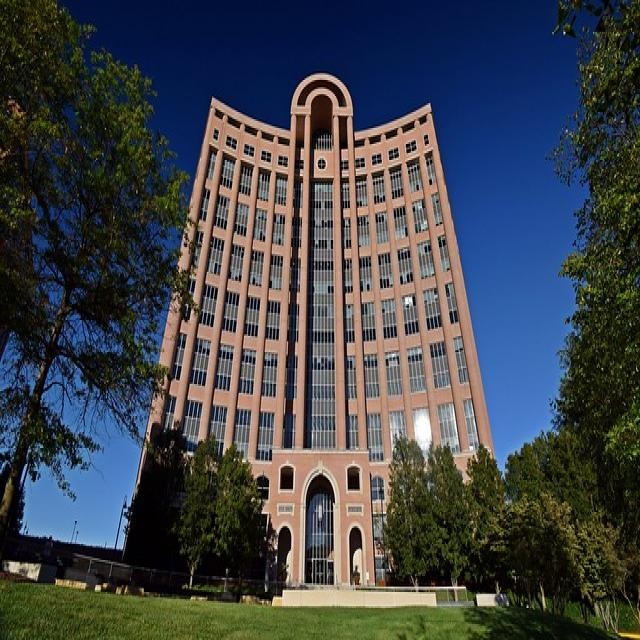Normal_building: (120, 68, 504, 600)
